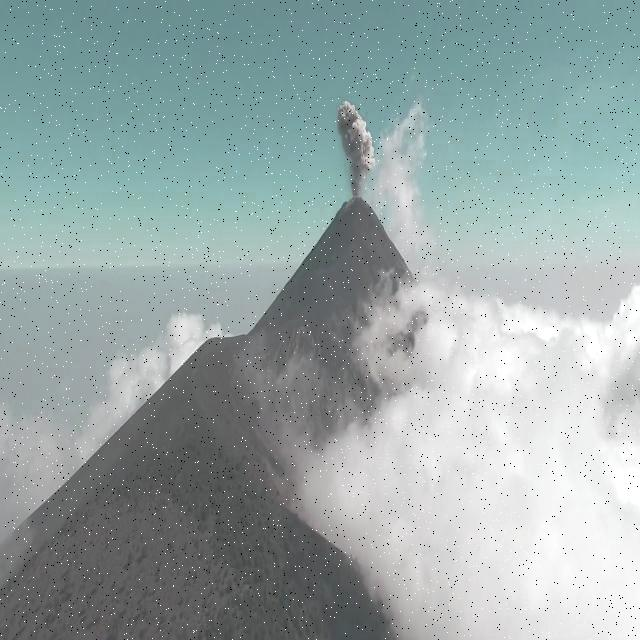Plume: (327, 88, 386, 194)
Summit: (152, 191, 504, 428)
